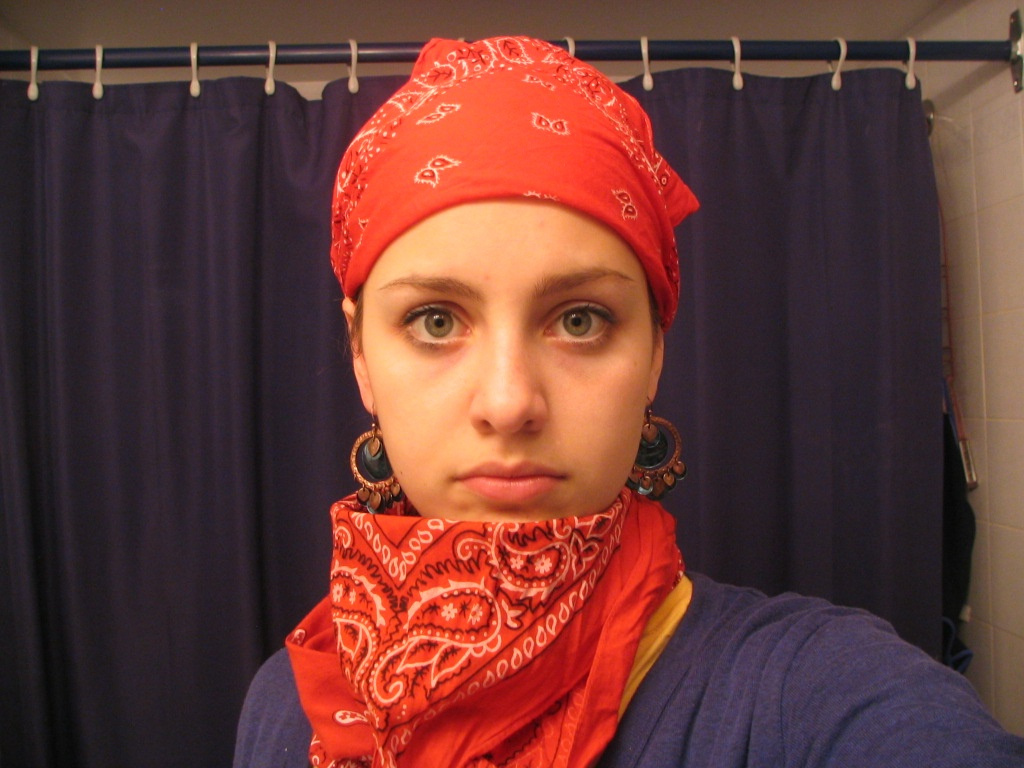with_incorrect_mask: (338, 185, 682, 555)
